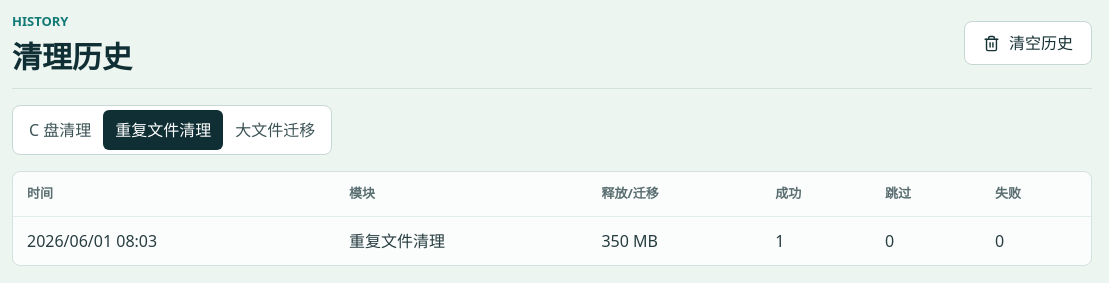
it: HistoryPage › clears operation history
The image size is (1109, 283).
Check: the tab "重复文件清理" is shown, box [103,110,223,150]
Click the button "清空历史" at [1028, 43], box [964,21,1092,65]
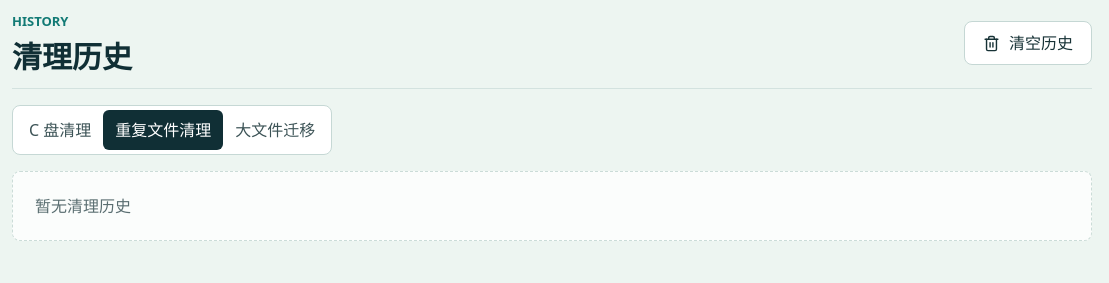
Check: the text "暂无清理历史" is shown, box [12,171,1092,241]
